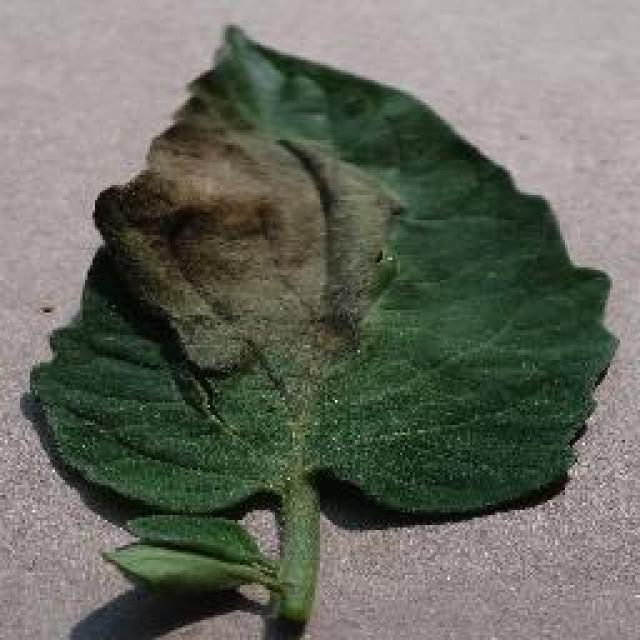Tomato___Late_blight: (30, 28, 612, 622)
